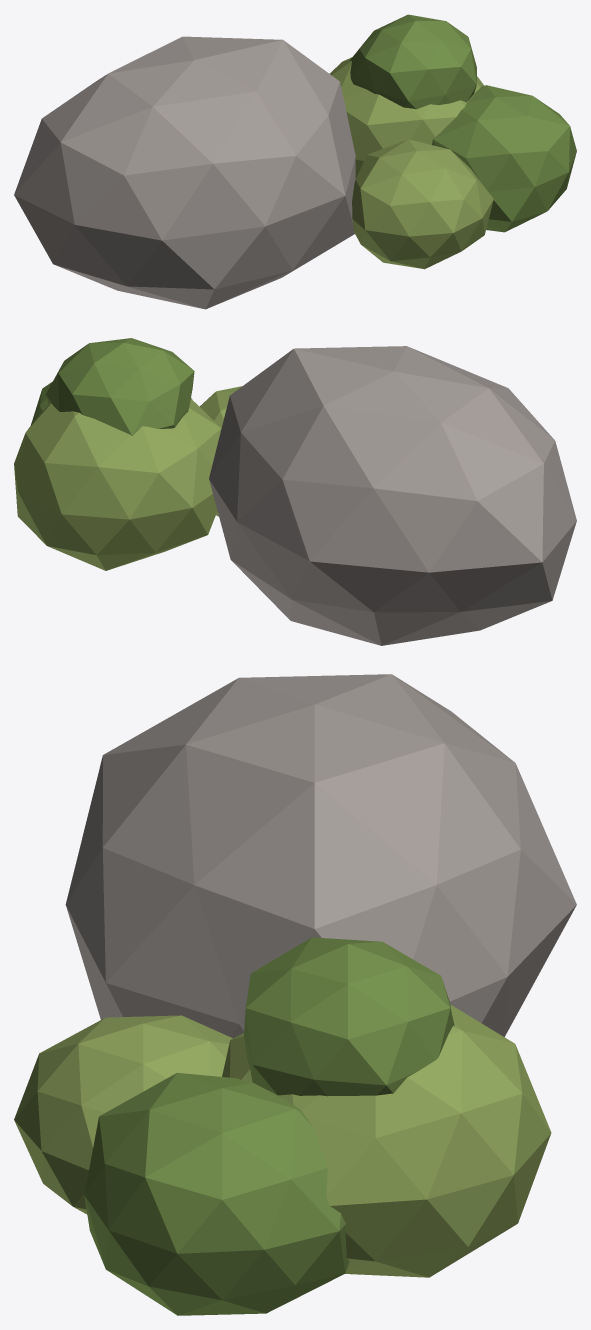
Rendered from Rock_Bush.glb.
3 renders of one model, top to bottom at view 1: azimuth 30°, elevation 25°; view 2: azimuth 150°, elevation 25°; view 3: azimuth 270°, elevation 25°, orthographic. The views are drawn at different scales.
Parts seen in each view (by area): view 1: Rock_Bush; view 2: Rock_Bush; view 3: Rock_Bush.
Part boxes in pixels (bbox=[...]): Rock_Bush: bbox=[14, 14, 576, 309]; Rock_Bush: bbox=[14, 338, 576, 645]; Rock_Bush: bbox=[14, 674, 576, 1315].
Size of the model in its own units: 1.65 by 0.7207 by 0.9197.
